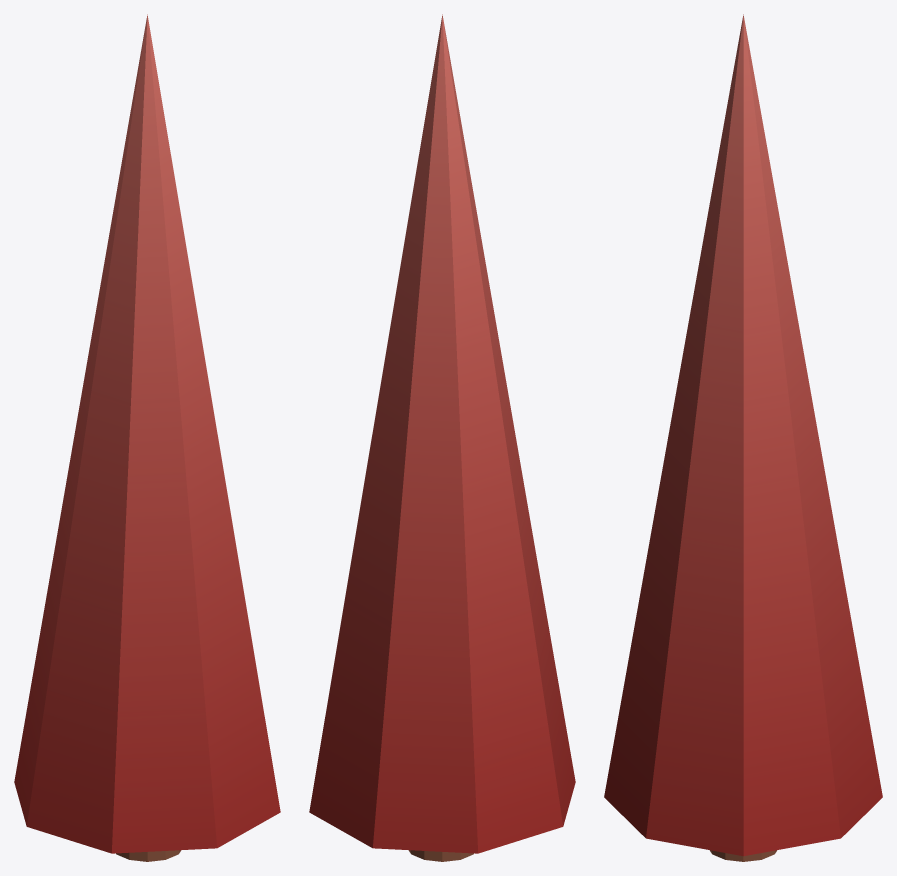
Rendered from Tree_24_gradient_red_pal.fbx.
The picture shows the model from 3 angles, left to right: view 1: azimuth 30°, elevation 25°; view 2: azimuth 150°, elevation 25°; view 3: azimuth 270°, elevation 25°; orthographic projection.
Visible parts, largest first — view 1: Tree_24_gradient_red_pal; view 2: Tree_24_gradient_red_pal; view 3: Tree_24_gradient_red_pal.
Boxes of the visible parts, box(x1,y1,x2,y2) form: Tree_24_gradient_red_pal: box(14, 14, 280, 861); Tree_24_gradient_red_pal: box(309, 14, 575, 861); Tree_24_gradient_red_pal: box(604, 14, 882, 861).
Bounding box in the file's own units: 85.35 × 281 × 85.35.
